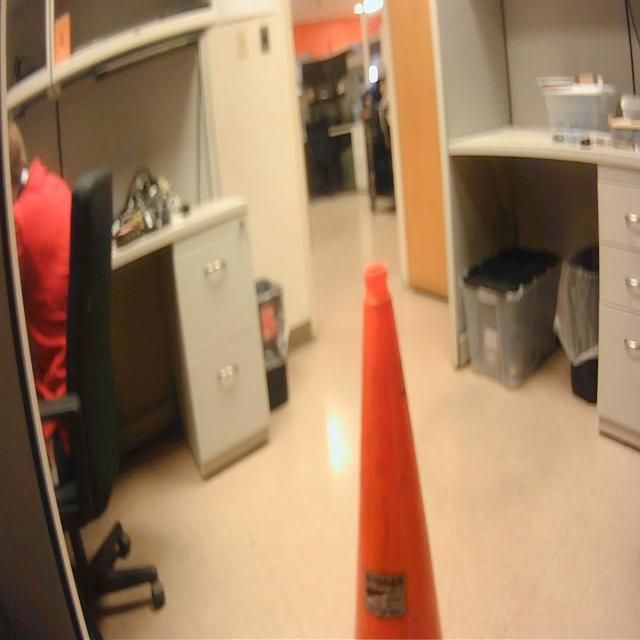traffic cone: (347, 253, 451, 640)
